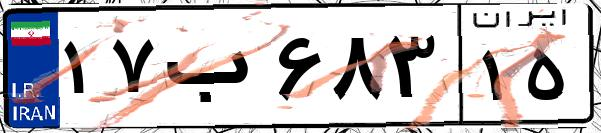1: (57, 26, 110, 100), (475, 38, 525, 113)
3: (385, 28, 445, 110)
5: (525, 38, 570, 115)
6: (270, 28, 330, 110)
7: (110, 28, 158, 98)
8: (330, 28, 385, 110)
ب: (158, 20, 270, 120)
